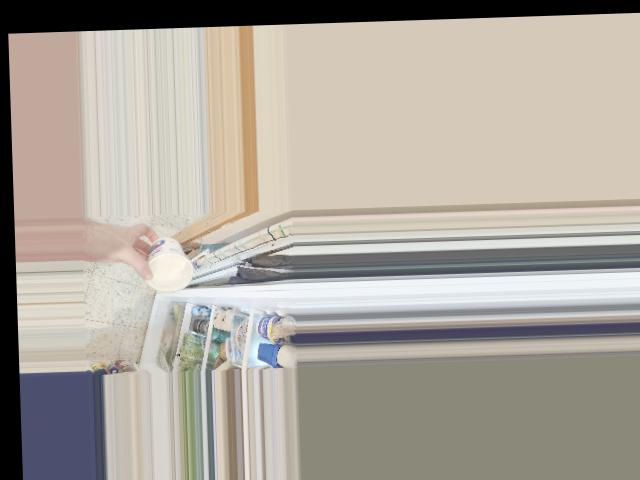cotage: (143, 236, 193, 291)
